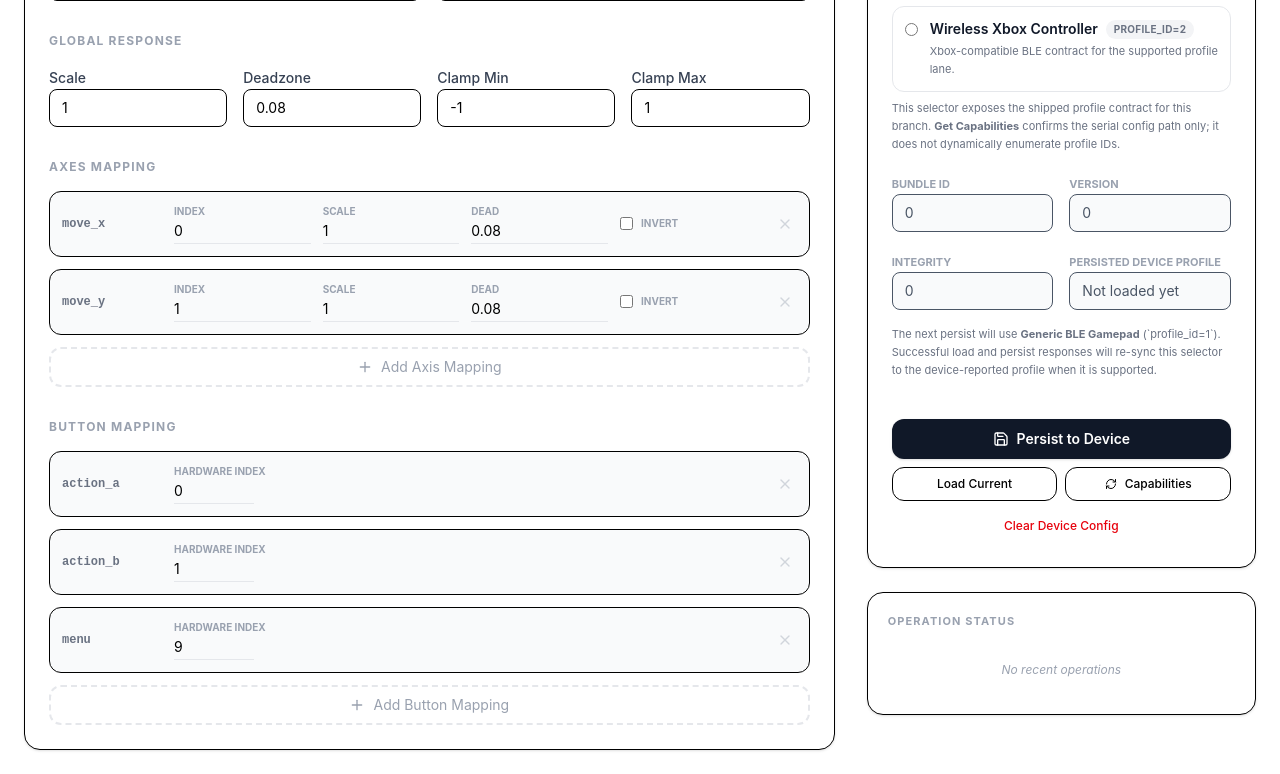
Test: ConfigView › persists the default profile 1 selection
(page scrolled)
Step 1. Click the button "Persist to Device" → (1061, 439), box [892,419,1231,459]
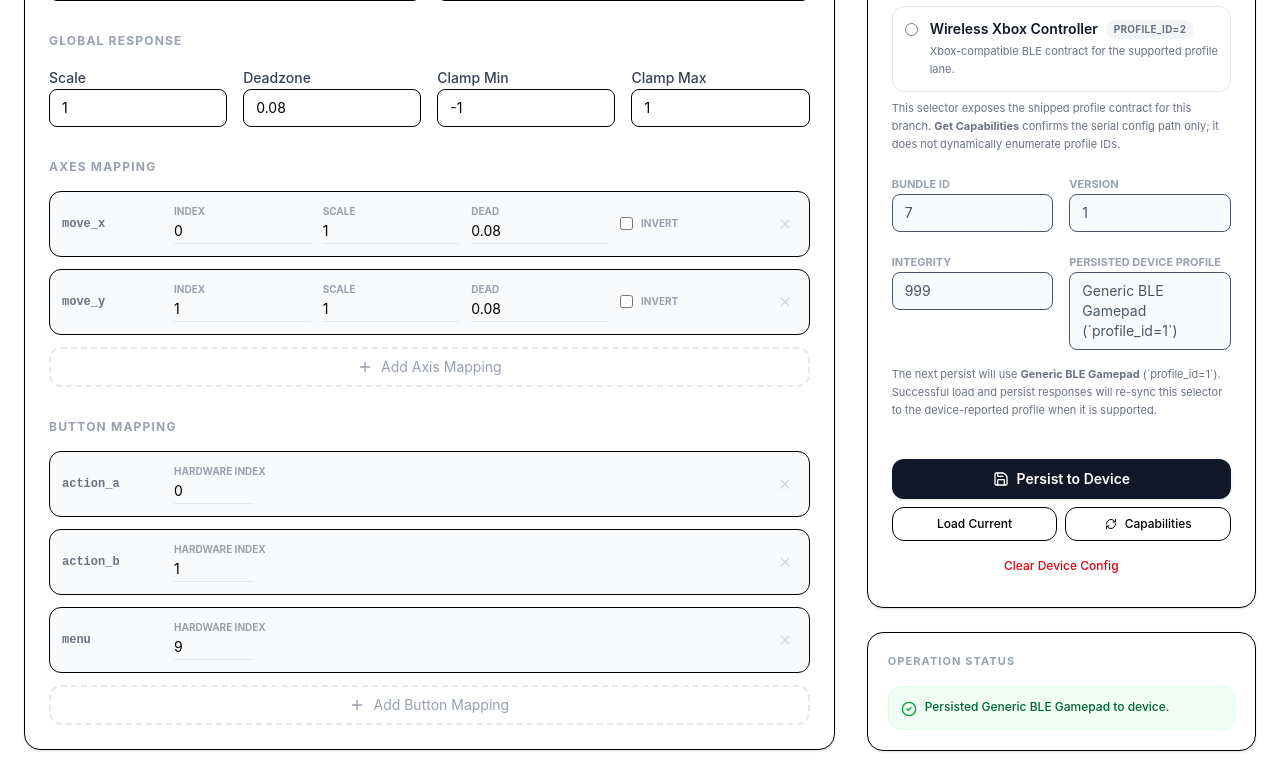
Expected: the text "Persisted Generic BLE Gamepad to device." is shown, [925,699,1170,715]
